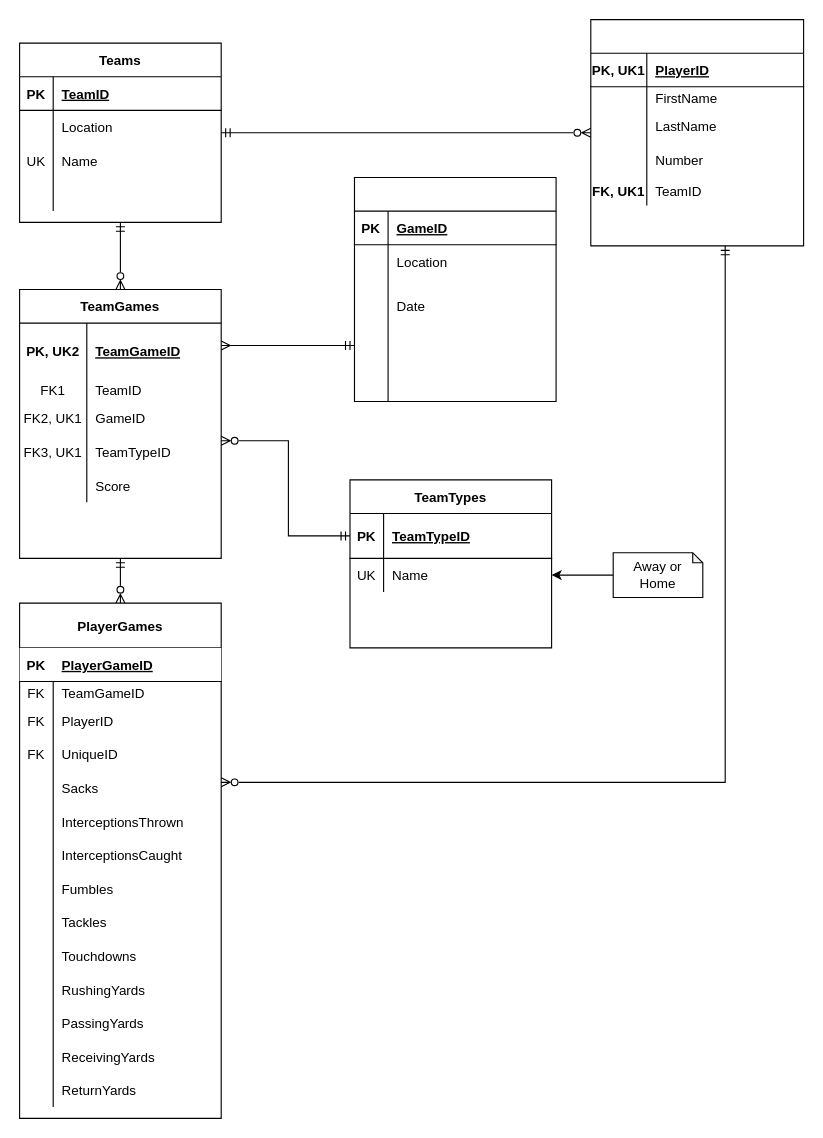
Some shapes in this 823 by 1138 pixel diagram are drawn without their labels. The shapes that lost their labels are listed below. From the top down, each one's box as (x1, y1, x2, y2) in pixels, then its label:
(590, 18, 804, 246): Players
(353, 176, 556, 402): Games
